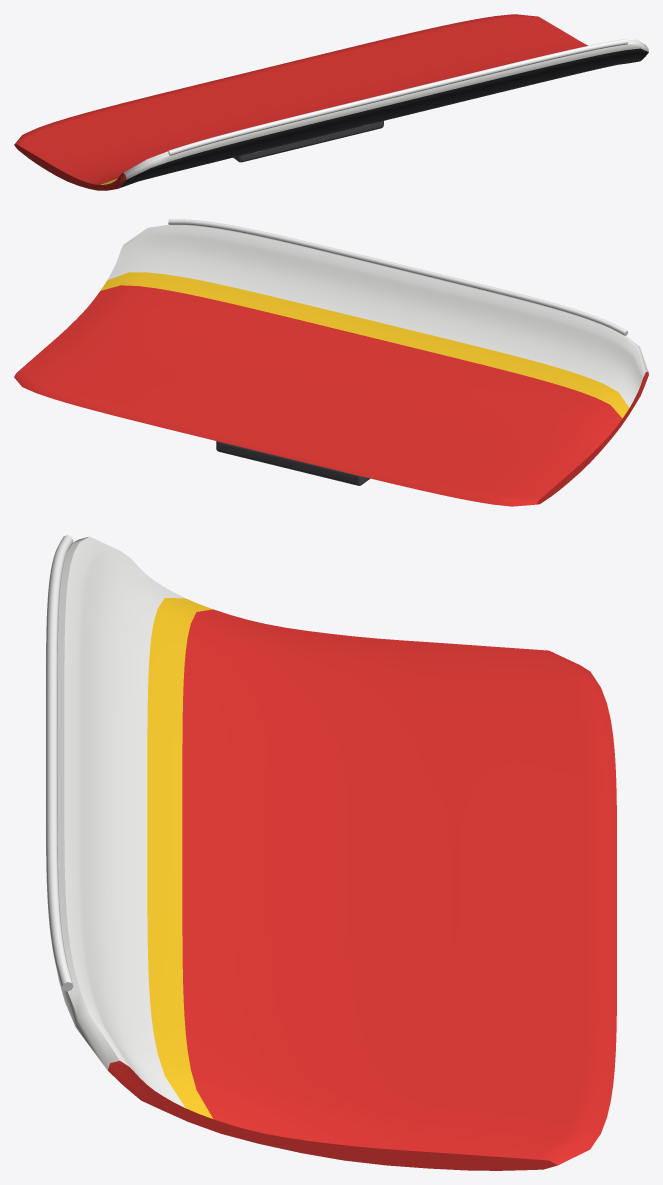
Rendered from spoiler_duck.glb.
3 renders of one model, top to bottom at view 1: azimuth 30°, elevation 25°; view 2: azimuth 150°, elevation 25°; view 3: azimuth 270°, elevation 25°, orthographic. The views are drawn at different scales.
Visible parts, largest first — view 1: spoiler_duck; view 2: spoiler_duck; view 3: spoiler_duck.
Part boxes in pixels (x1,y1,x2,y2): spoiler_duck: (14, 14, 648, 190); spoiler_duck: (14, 219, 648, 506); spoiler_duck: (46, 535, 616, 1170).
Size of the model in its own units: 0.86 by 0.1912 by 0.4072.
